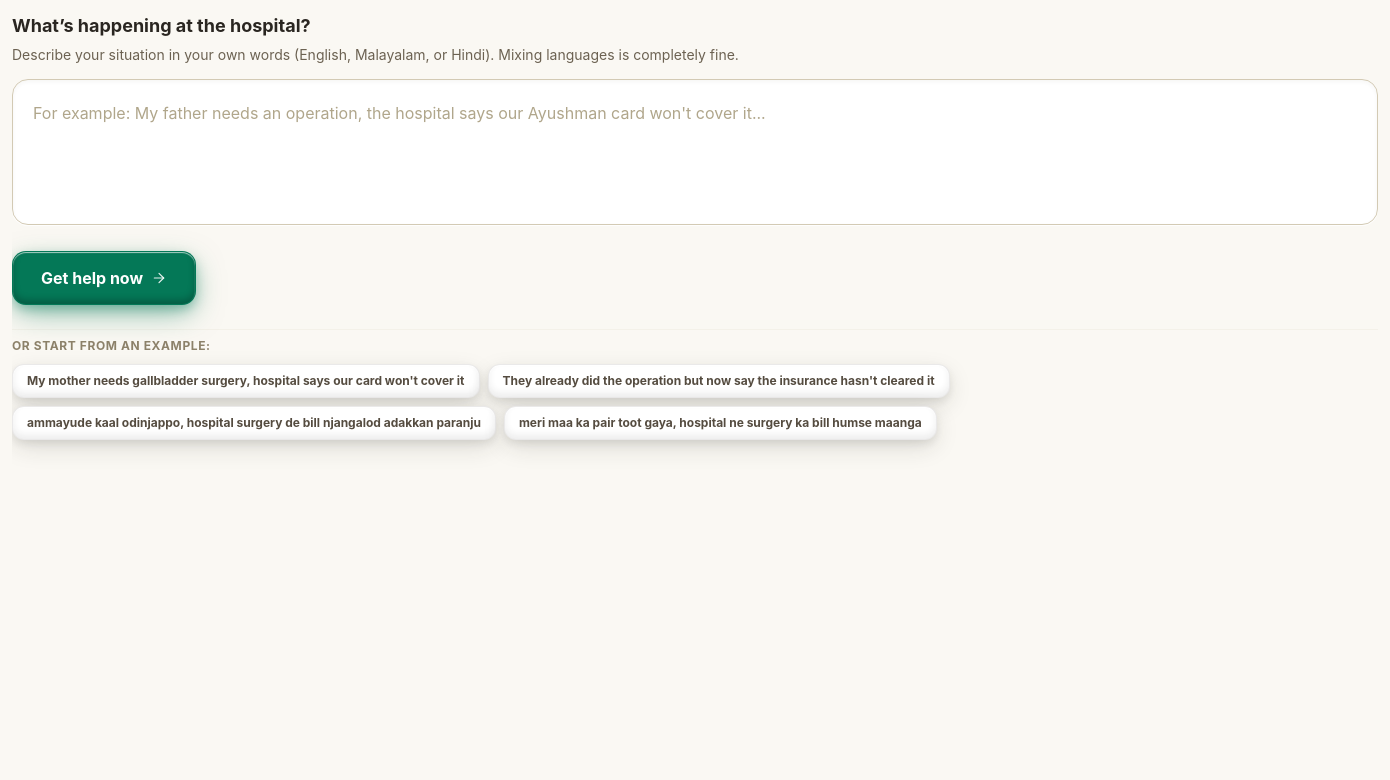
Test: IntakeForm › trims whitespace before checking length, matching backend behavior
Type "   hi   " into the text box labelled "What’s happening at the hospital?" at (695, 152), box [12,79,1378,225]
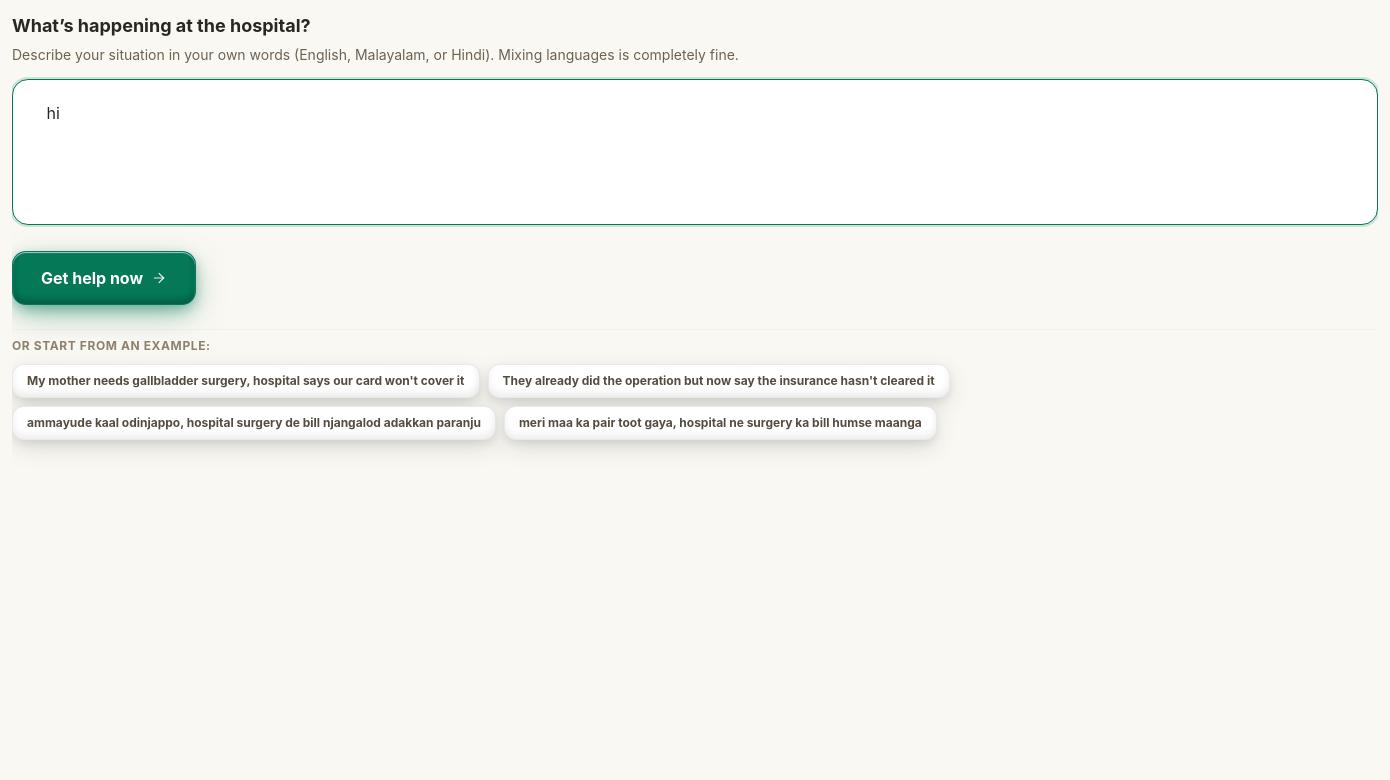
Click the button "Get help now" at (104, 278), box [12,251,196,305]
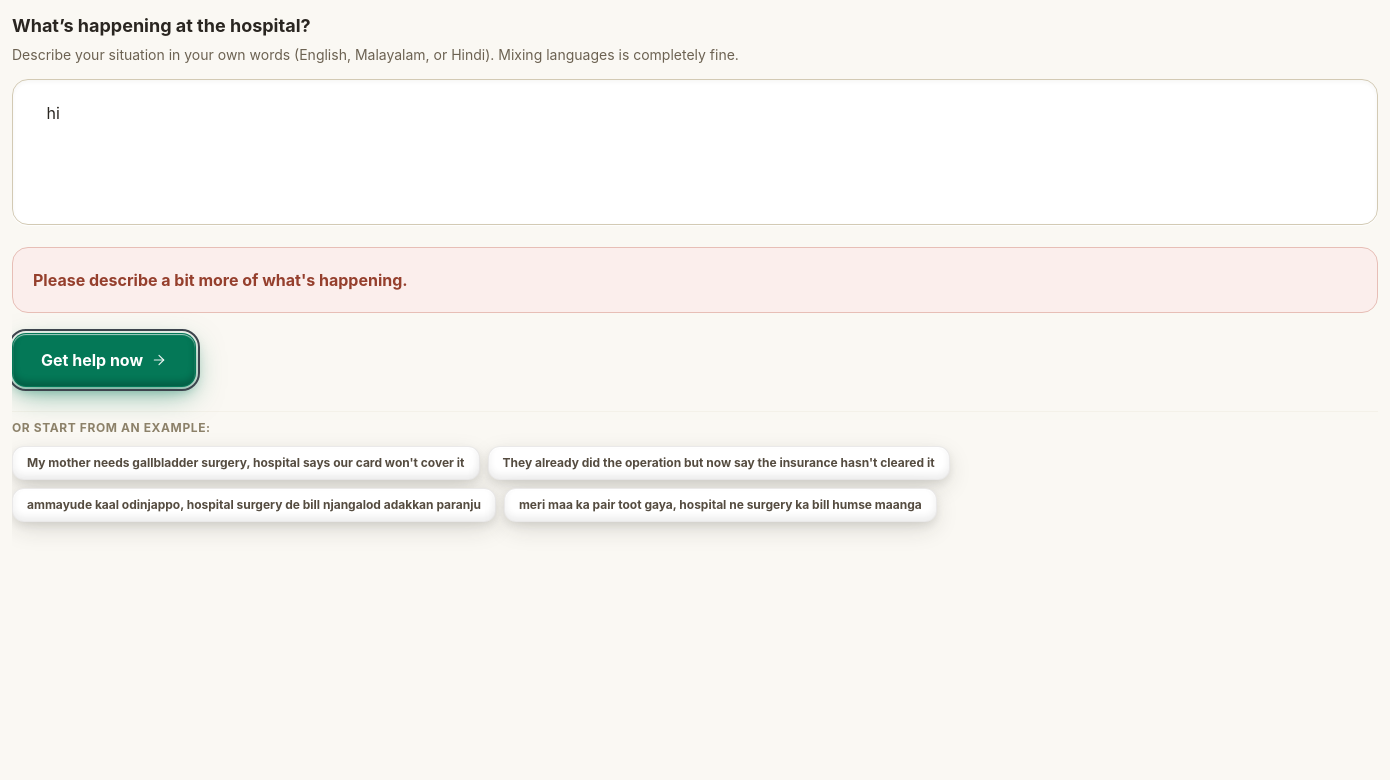
Expected: the message "Please describe a bit more of what's happening." is shown, [12,247,1378,313]
